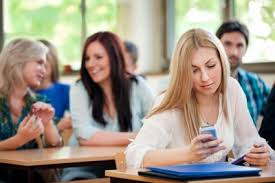Mobile-phone: (198, 123, 221, 153)
